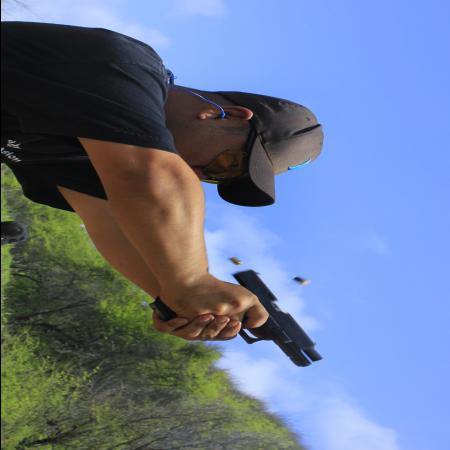Pistol: (166, 264, 338, 376)
